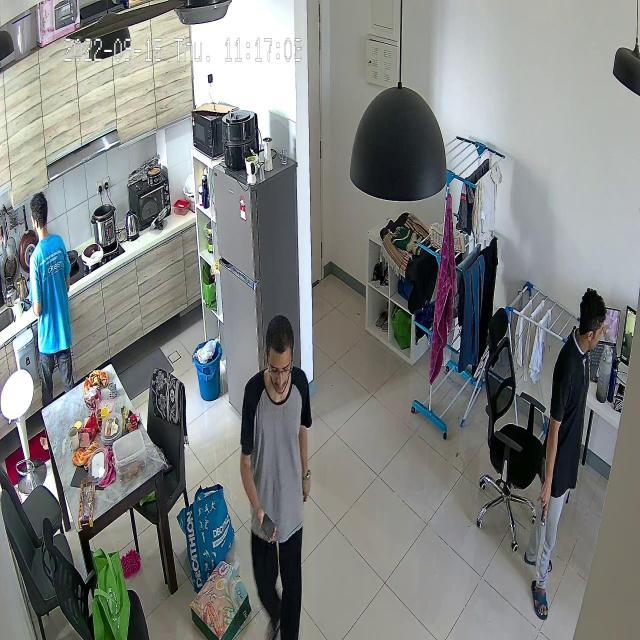Knife: (526, 494, 556, 574)
